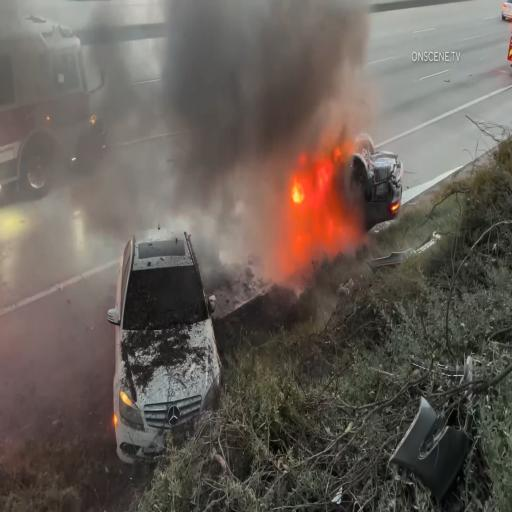fire: (288, 182, 306, 208)
smoke: (104, 0, 355, 144), (169, 145, 279, 269)
